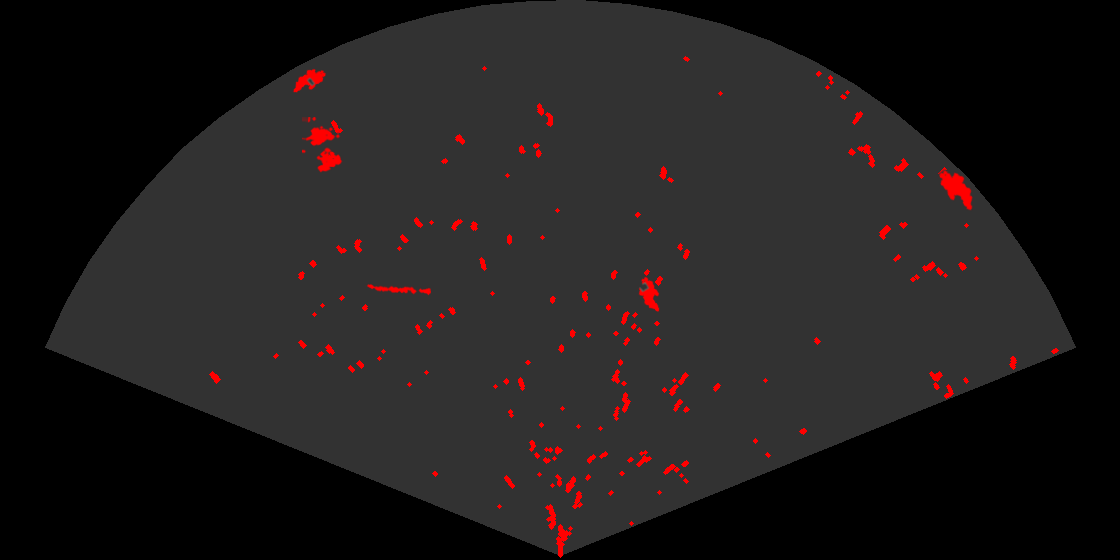AUV: (938, 169, 974, 212), (291, 67, 328, 94), (637, 275, 661, 314)
cage: (302, 117, 344, 174)
chain: (365, 283, 431, 297)
